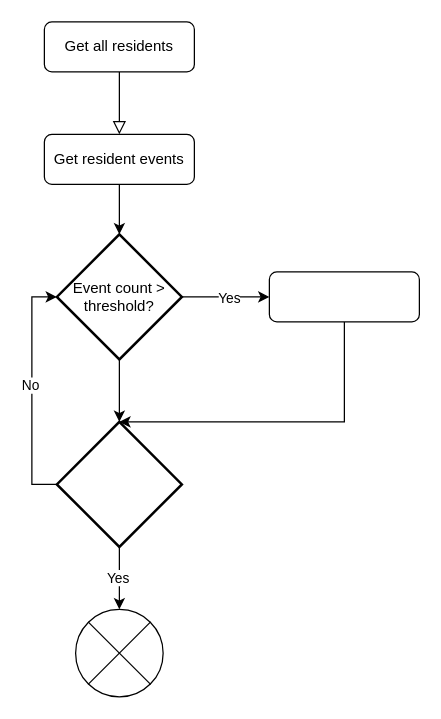
Image size: 441x719. Some labels were removed from this diagram. Here are the shapes that lost their labels. From the top down, the centre of each, then its label:
(343,296): Generate alarm
(118,484): All residents checked?
